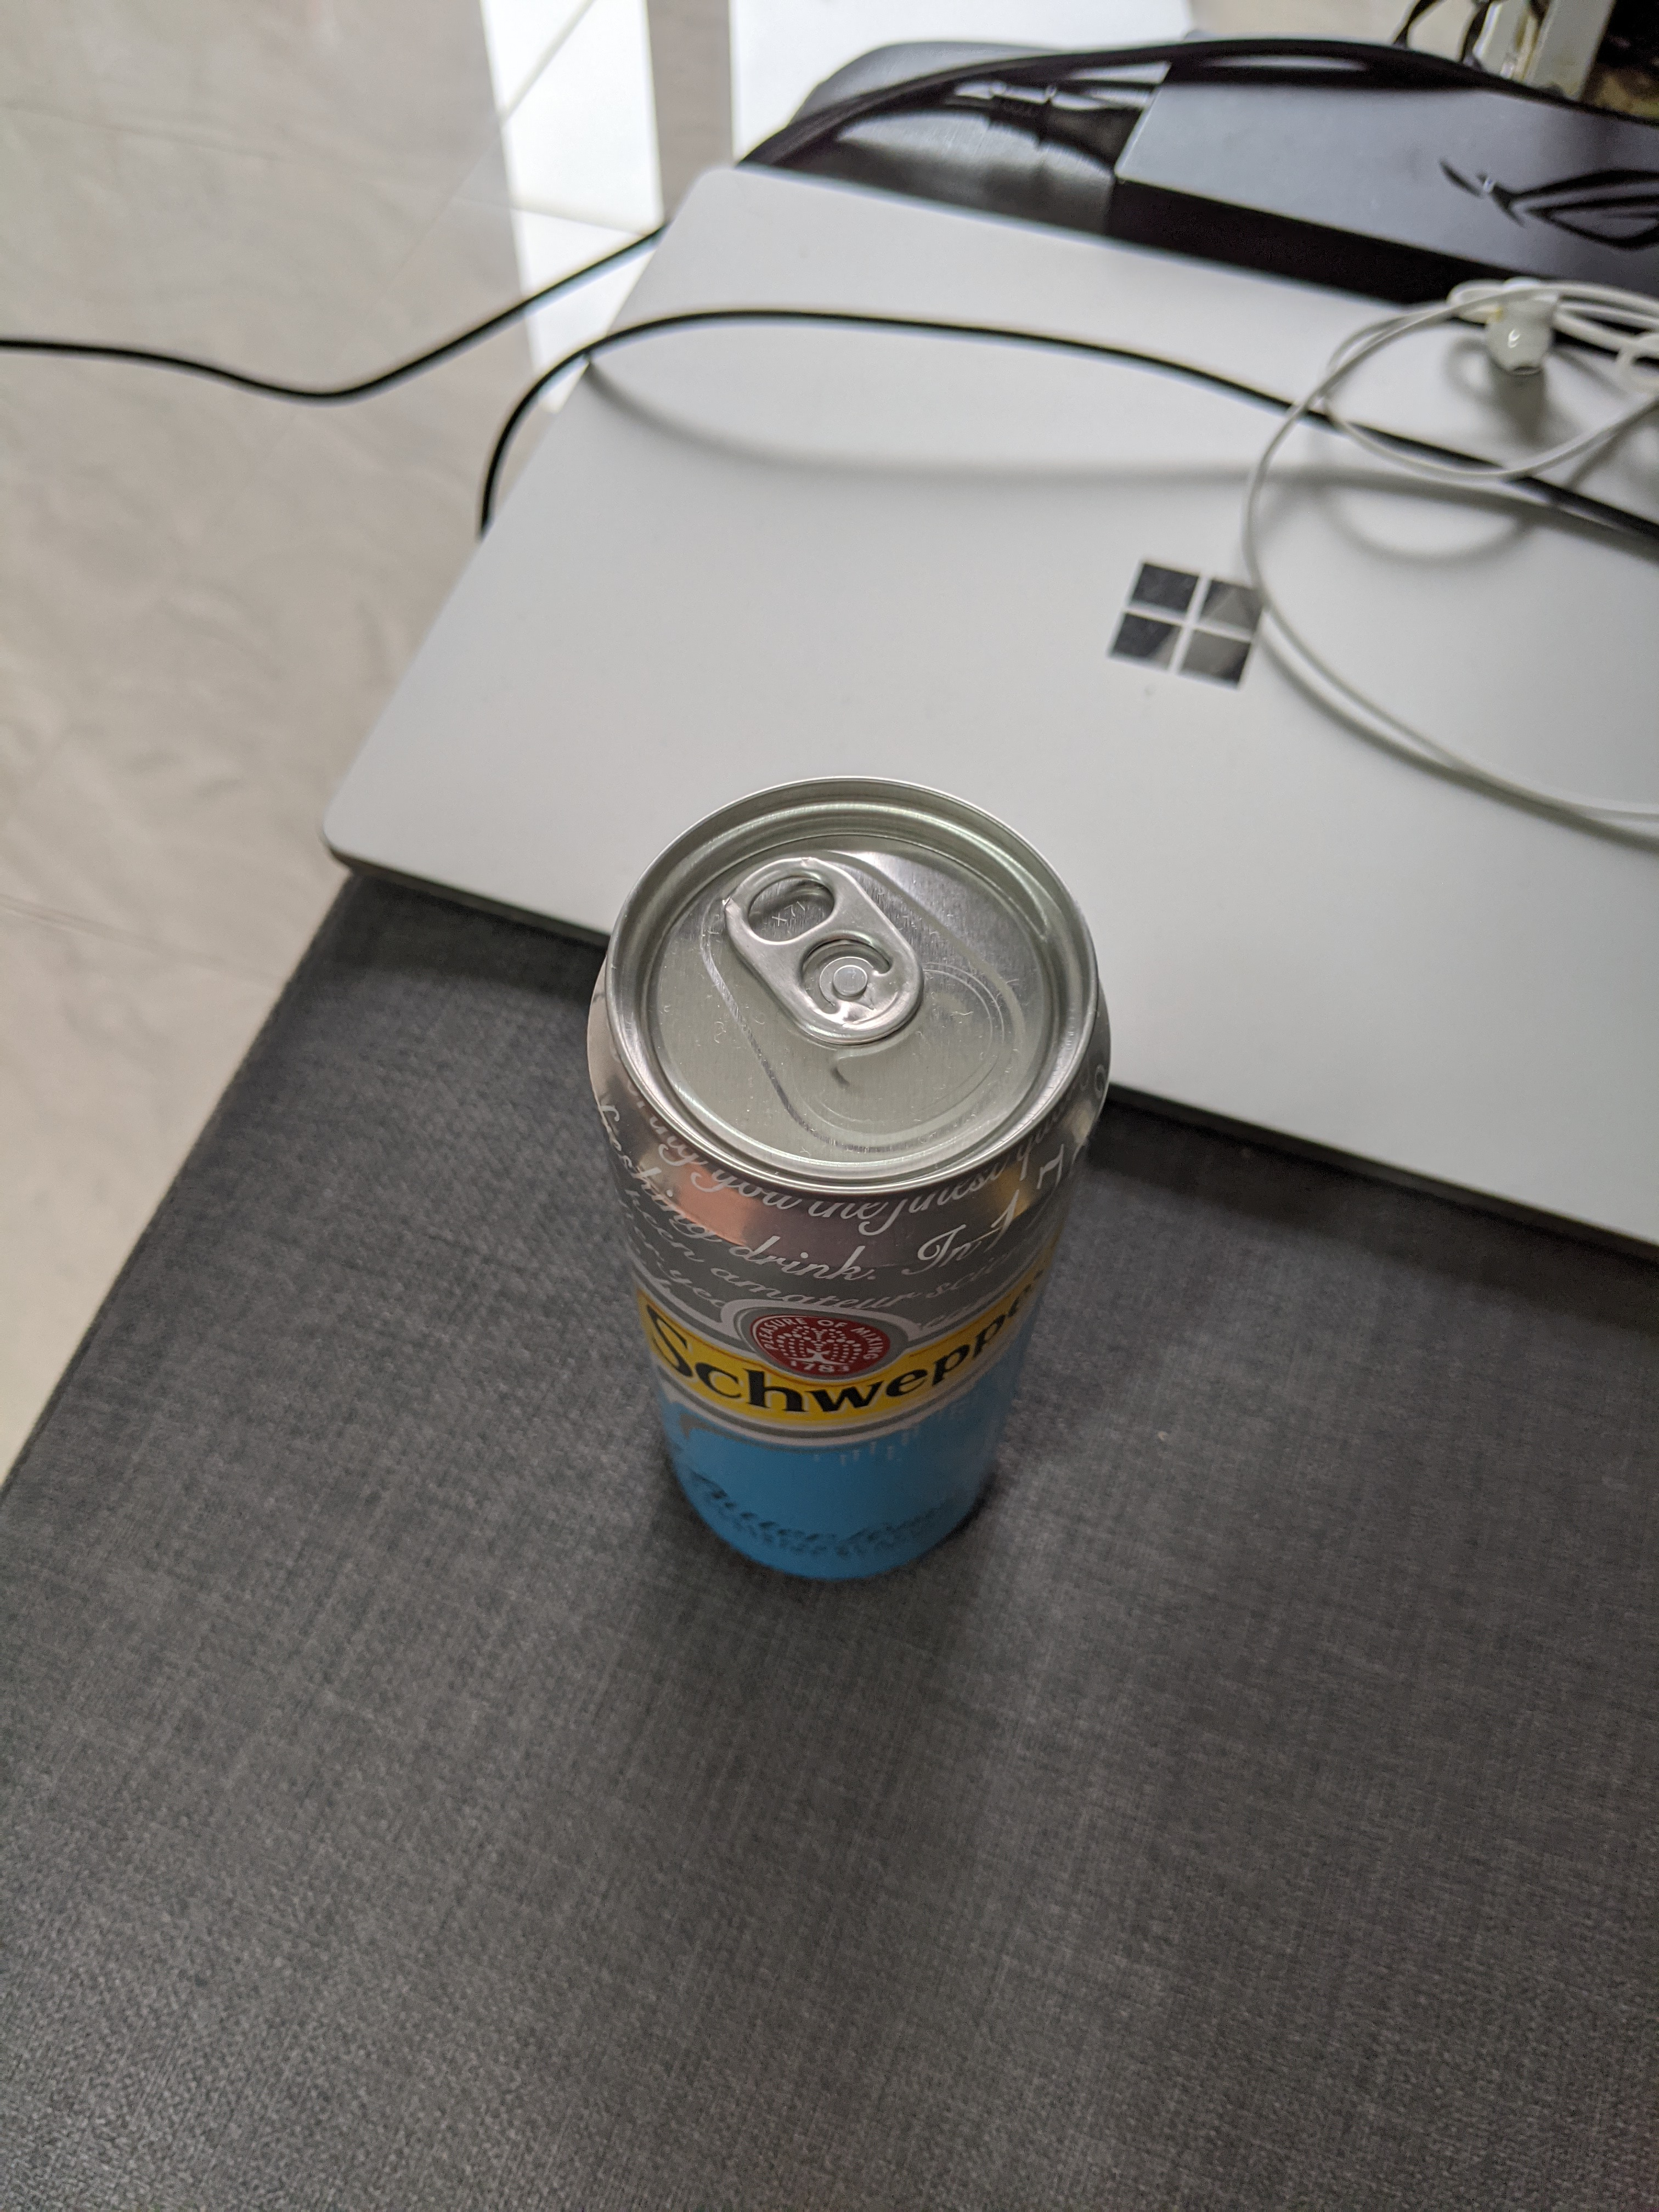schweppes drink can bitter lemon: (559, 749, 1141, 1646)
